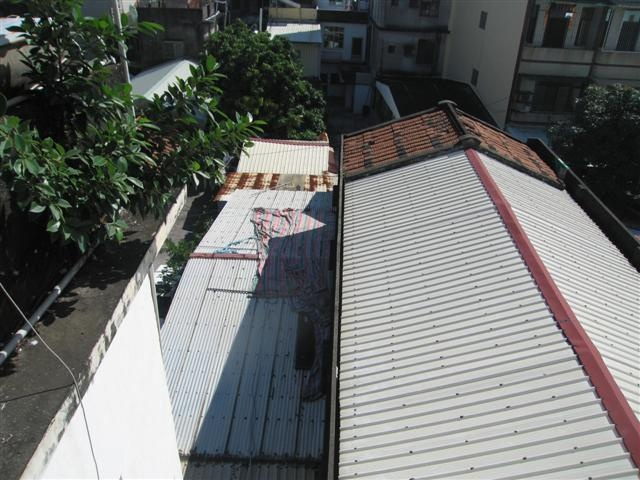plastic_bag: (248, 206, 331, 402)
